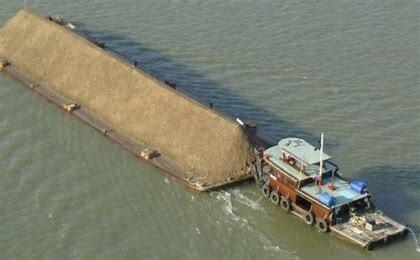Ship: (1, 12, 416, 257)
